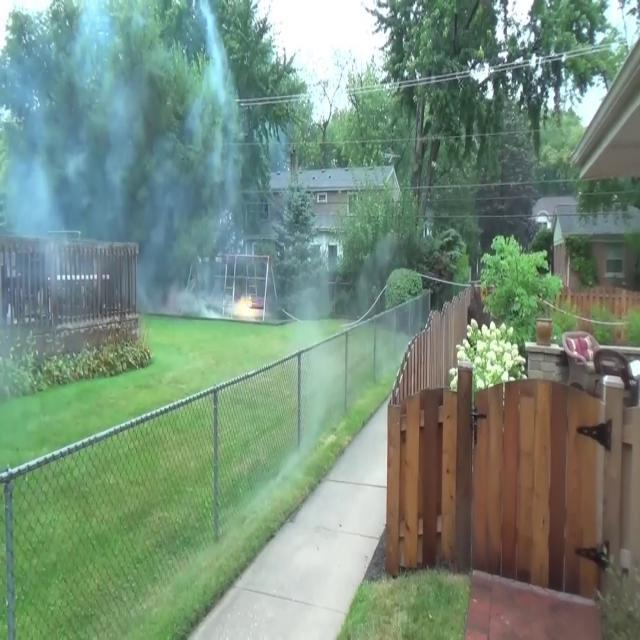Smoke: (0, 0, 260, 303)
